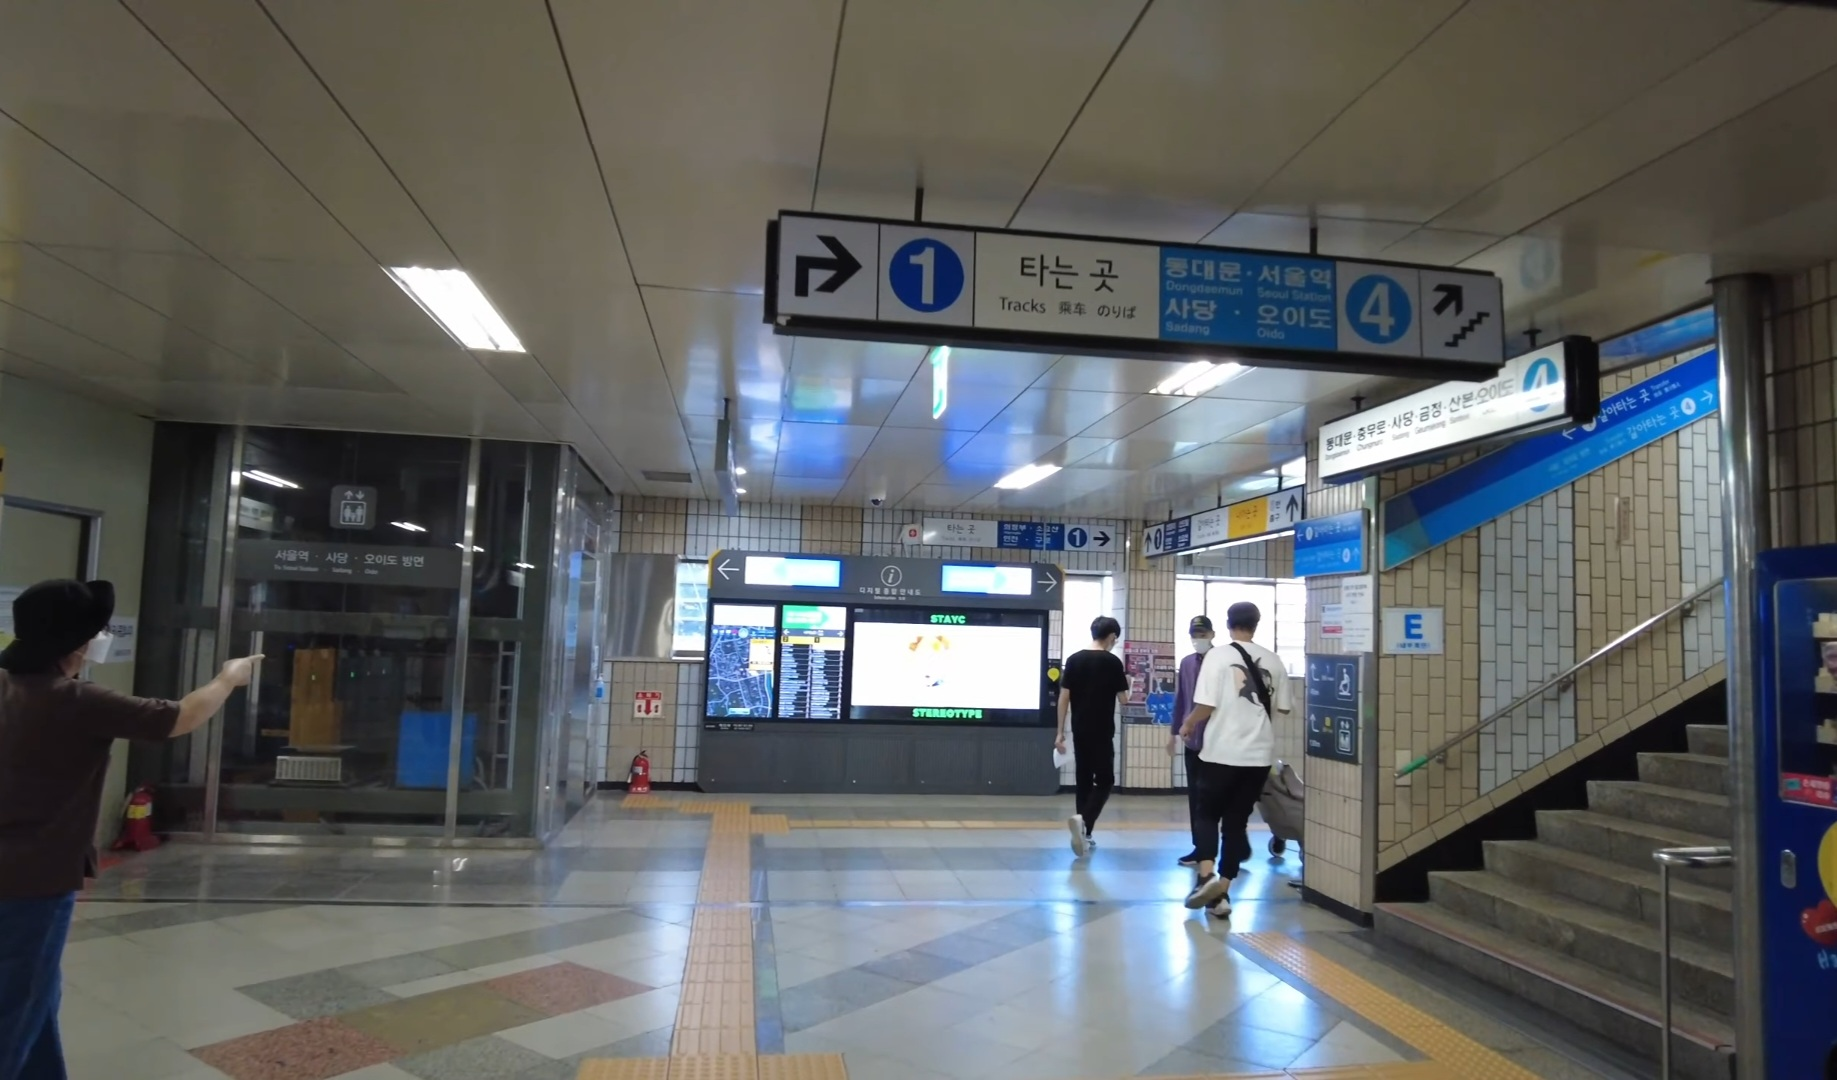signBoard: (758, 190, 1507, 377)
